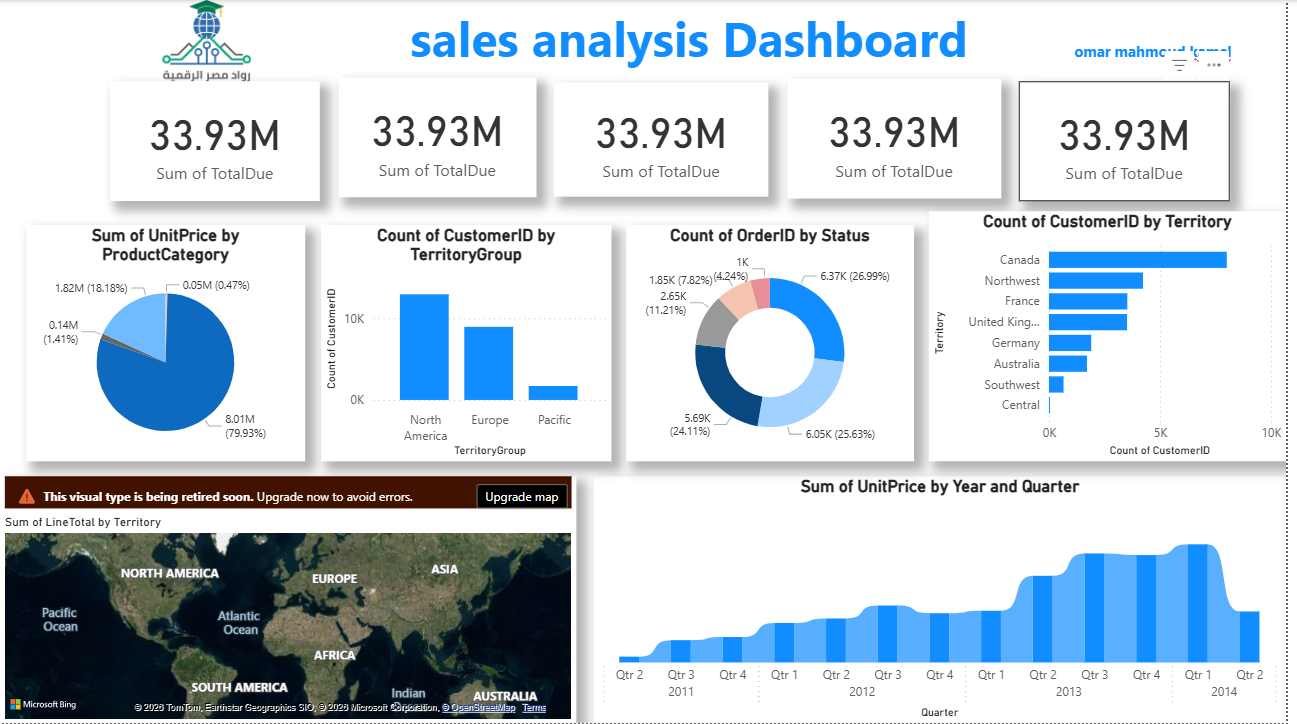

What the dashboard file says about the page in this screenshot:
{"tool":"powerbi","page":{"name":"dashboard1","canvas":[1280,720],"ordinal":0},"visuals":[{"type":"textbox","box":[303.5,0,934.2,83.3],"z":0},{"type":"card","fields":{"Values":["Sum(Sales.TotalDue)"]},"box":[109.7,80.4,209,119.4],"z":1000},{"type":"card","fields":{"Values":["Sum(Sales.TotalDue)"]},"box":[336.7,77.2,196.5,119.4],"z":2000},{"type":"card","fields":{"Values":["Sum(Sales.TotalDue)"]},"box":[551.3,81.9,214,113.2],"z":3000},{"type":"card","fields":{"Values":["Sum(Sales.TotalDue)"]},"box":[783.3,78.8,212.7,119.4],"z":4000},{"type":"card","fields":{"Values":["Sum(Sales.TotalDue)"]},"box":[1014.1,80.4,210.2,119.4],"z":5000},{"type":"filledMap","fields":{"Series":["Sales.Territory"]},"box":[0,473.9,573.5,246.3],"z":6000},{"type":"ribbonChart","fields":{"Y":["Sum(Sales.UnitPrice)"],"Category":["Sales.OrderDate.Variation.Date Hierarchy.Year","Sales.OrderDate.Variation.Date Hierarchy.Quarter","Sales.OrderDate.Variation.Date Hierarchy.Month","Sales.OrderDate.Variation.Date Hierarchy.Day"]},"box":[590.9,473.9,689.2,246.3],"z":7000},{"type":"pieChart","fields":{"Series":["Sales.ProductCategory"],"Y":["Sum(Sales.UnitPrice)"]},"box":[26.1,223.9,277.4,235.1],"z":8000},{"type":"clusteredColumnChart","fields":{"Category":["Sales.TerritoryGroup"],"Y":["CountNonNull(Sales.CustomerID)"]},"box":[319.7,223.9,288.6,235.1],"z":9000},{"type":"donutChart","fields":{"Y":["CountNonNull(Sales.OrderID)"],"Category":["Sales.Status"]},"box":[623.2,223.9,286.1,235.1],"z":10000},{"type":"clusteredBarChart","fields":{"Y":["CountNonNull(Sales.CustomerID)"],"Category":["Sales.Territory"]},"box":[924.3,210.2,355.8,248.8],"z":11000},{"type":"image","box":[156.7,0,97,80.9],"z":12000}]}

Visuals, with their boxes in screenshot pixels (x1, y1, x2, y2), scaled from the page's 1280x720 canvas onto the 1297x724 screenshot:
textbox: [308,0,1254,84]
card - Sum(Sales.TotalDue): [111,81,323,201]
card - Sum(Sales.TotalDue): [341,78,540,198]
card - Sum(Sales.TotalDue): [559,82,775,196]
card - Sum(Sales.TotalDue): [794,79,1009,199]
card - Sum(Sales.TotalDue): [1028,81,1241,201]
filledMap - Sales.Territory: [0,477,581,723]
ribbonChart - Sum(Sales.UnitPrice) x Sales.OrderDate.Variation.Date Hierarchy.Year: [599,477,1296,723]
pieChart - Sales.ProductCategory x Sum(Sales.UnitPrice): [26,225,308,462]
clusteredColumnChart - Sales.TerritoryGroup x CountNonNull(Sales.CustomerID): [324,225,616,462]
donutChart - CountNonNull(Sales.OrderID) x Sales.Status: [631,225,921,462]
clusteredBarChart - CountNonNull(Sales.CustomerID) x Sales.Territory: [937,211,1296,462]
image: [159,0,257,81]
